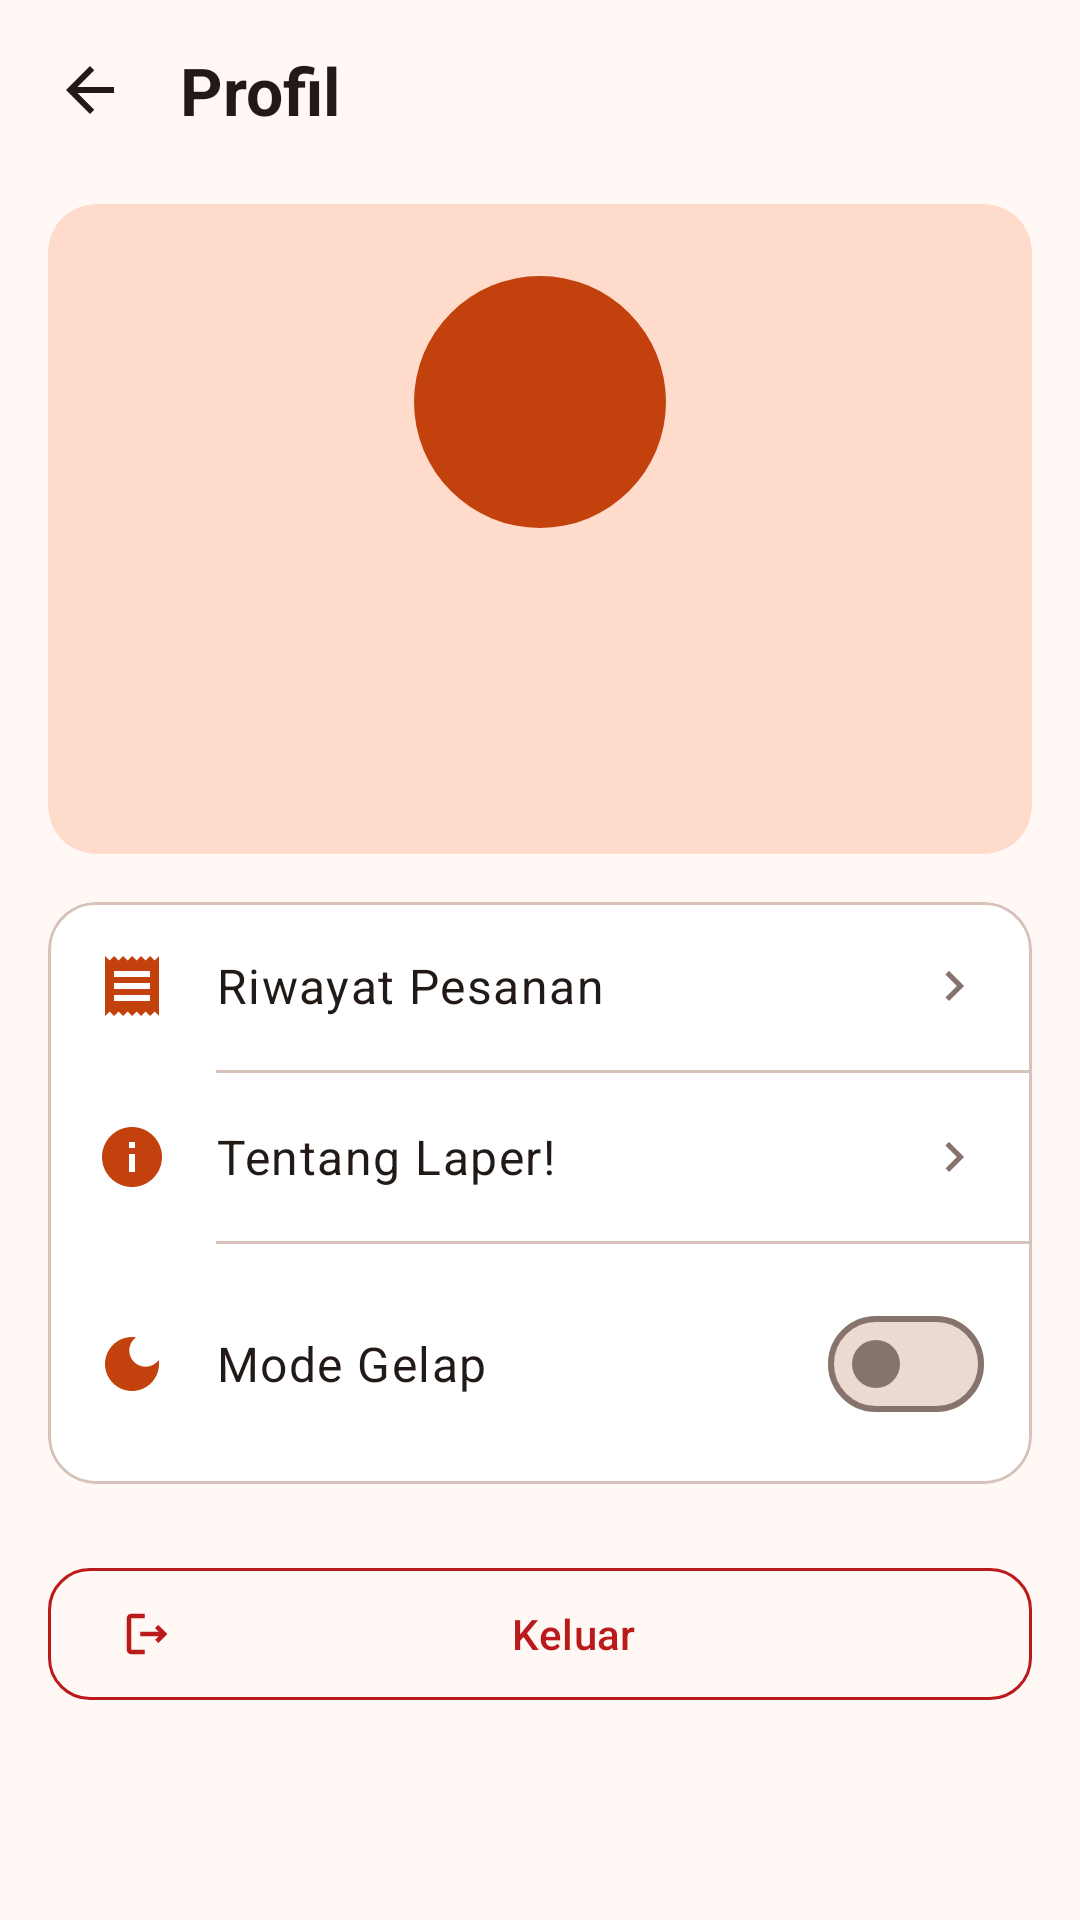

Locate icon controls on the screen. Image size 1080*1920, boxes as (x1, y1, x2, y2).
chevron right: (945, 971, 964, 1001), (945, 1142, 964, 1172)
info: (102, 1127, 162, 1187)
receipt: (105, 956, 159, 1016)
